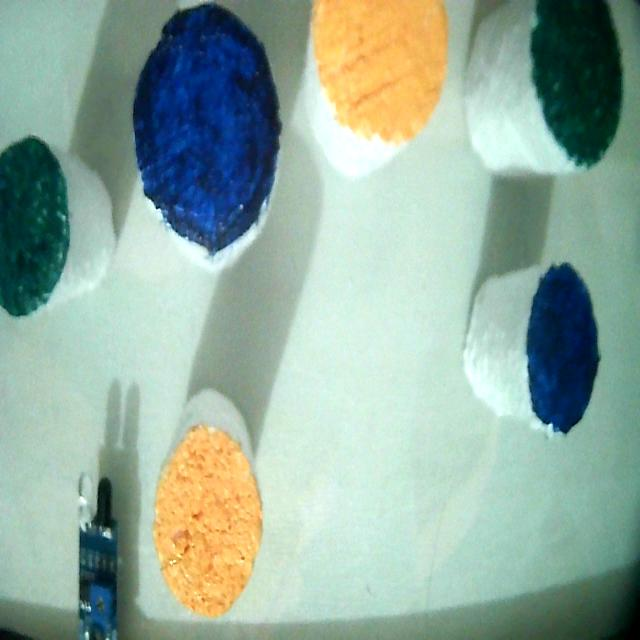blue: (133, 4, 280, 263), (526, 264, 599, 433)
green: (532, 0, 621, 167), (0, 137, 70, 316)
yellow: (153, 426, 261, 616), (312, 0, 447, 143)
